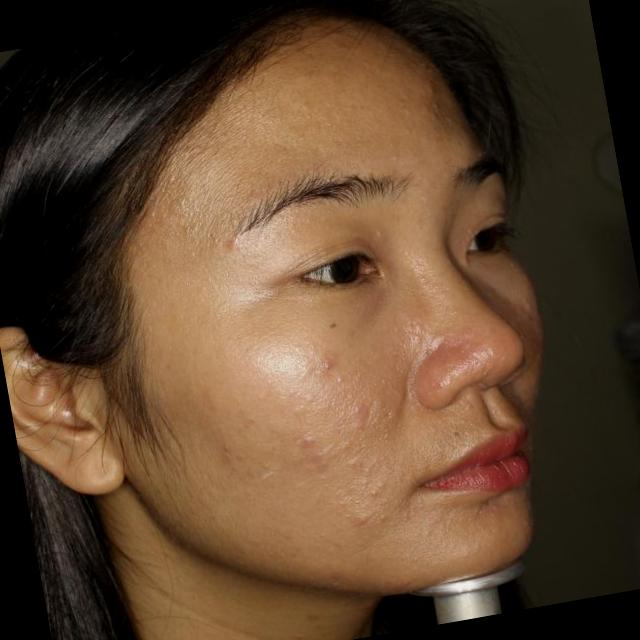acne: (308, 347, 342, 379), (412, 73, 443, 106), (346, 502, 380, 530), (291, 426, 324, 452), (347, 395, 376, 424), (304, 446, 334, 473)
